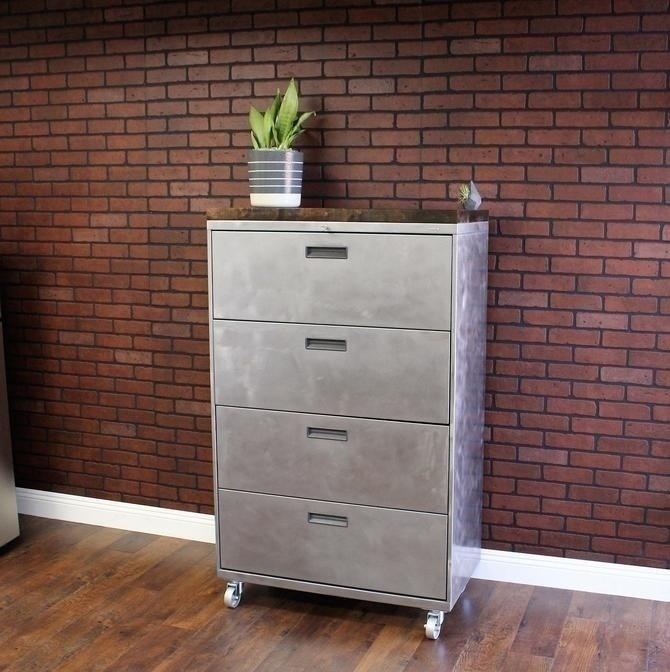cabinet_door: (210, 233, 449, 325), (213, 322, 447, 413), (215, 416, 447, 502), (218, 507, 445, 588)
handle: (300, 241, 353, 263), (300, 334, 353, 354), (302, 425, 351, 445), (306, 510, 352, 530)
